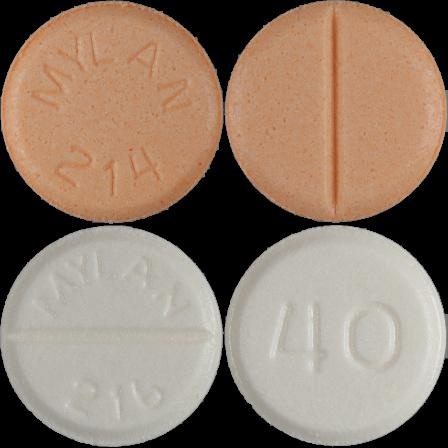0378-0214: (0, 0, 224, 224)
